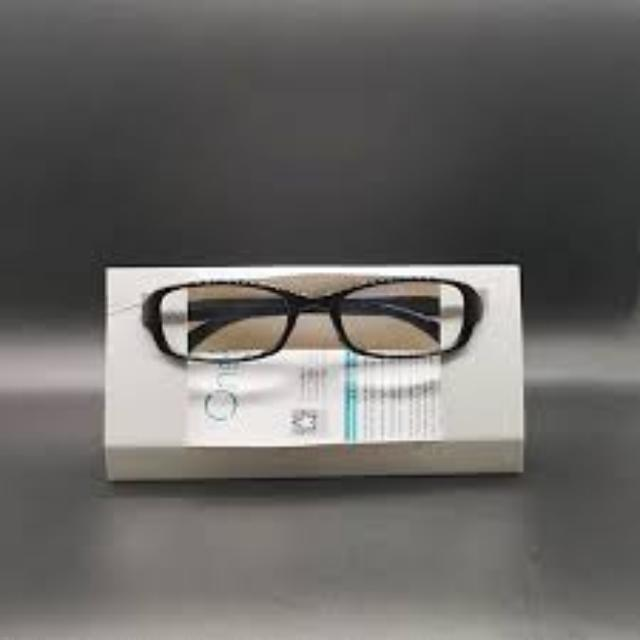glasses: (140, 274, 488, 366)
